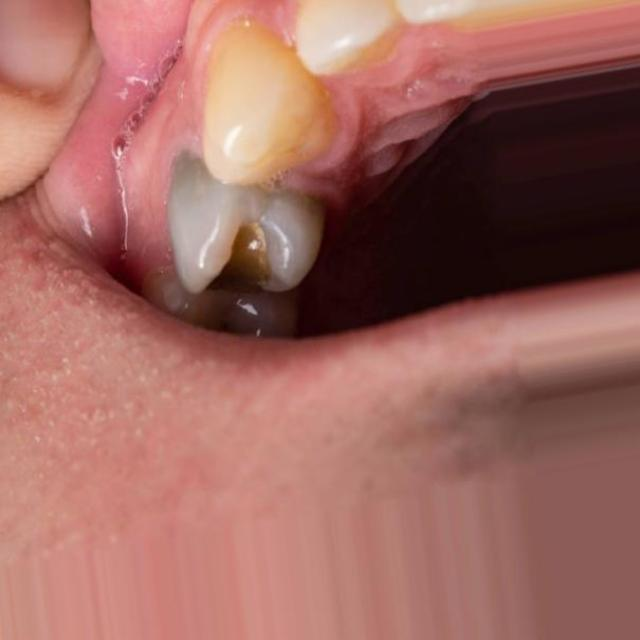caries: (194, 210, 286, 292)
